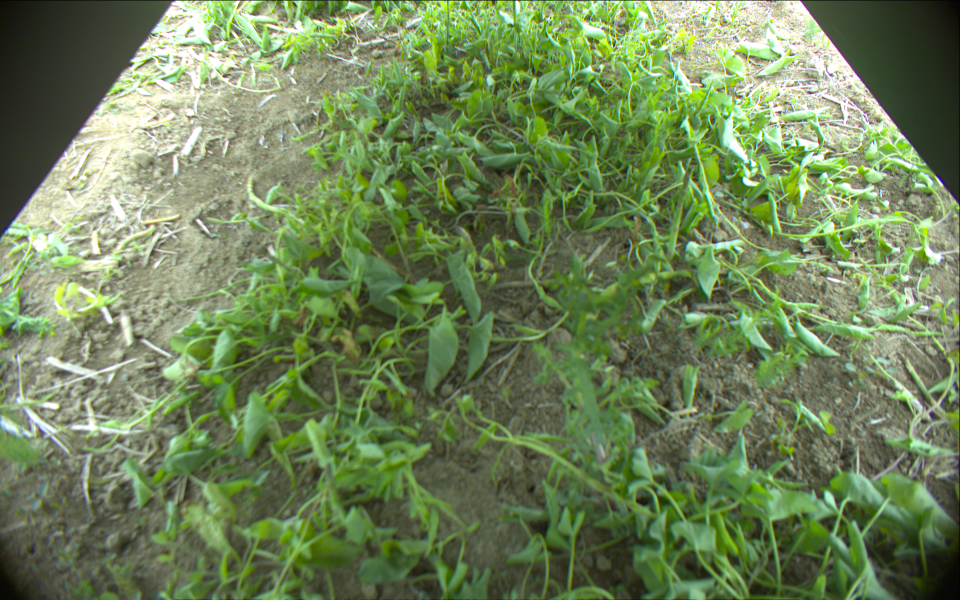aspa: (667, 166, 691, 258), (511, 1, 521, 45), (444, 1, 452, 53)
